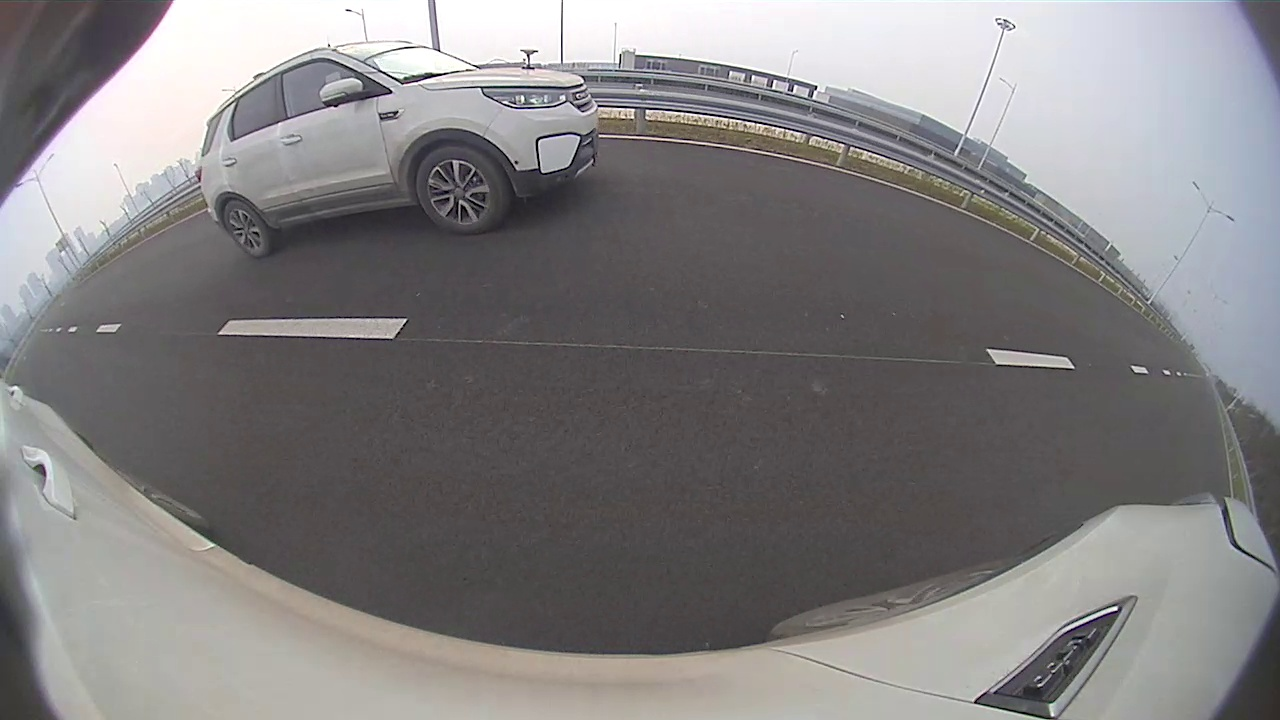car: (196, 40, 599, 260)
front: (417, 144, 506, 239)
rear: (224, 201, 270, 257)
